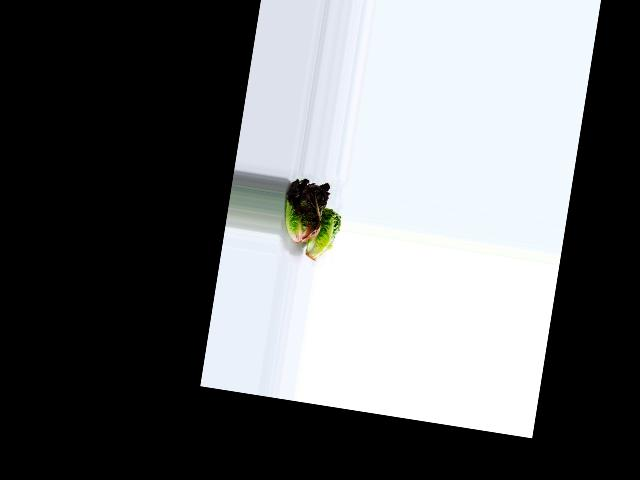lettuce: (302, 204, 343, 265)
